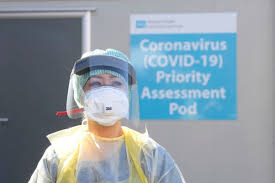mask: (66, 48, 135, 129)
